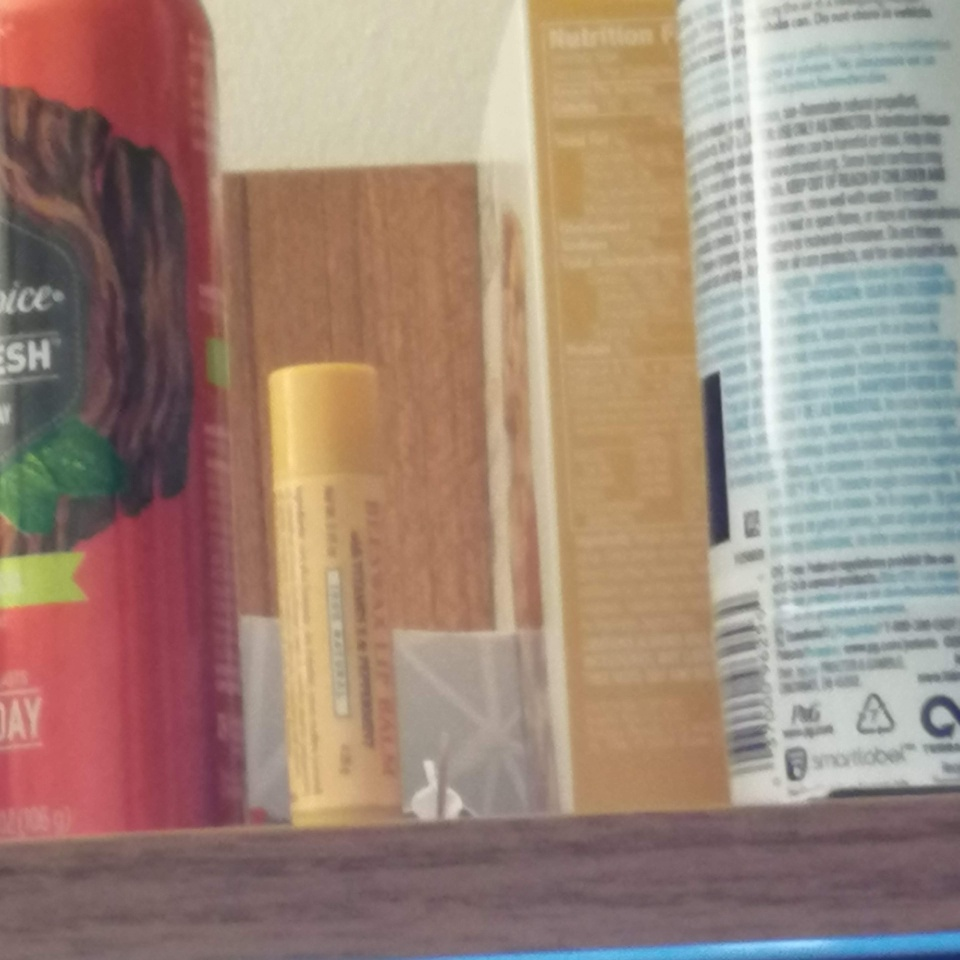chapstick: (267, 360, 415, 836)
